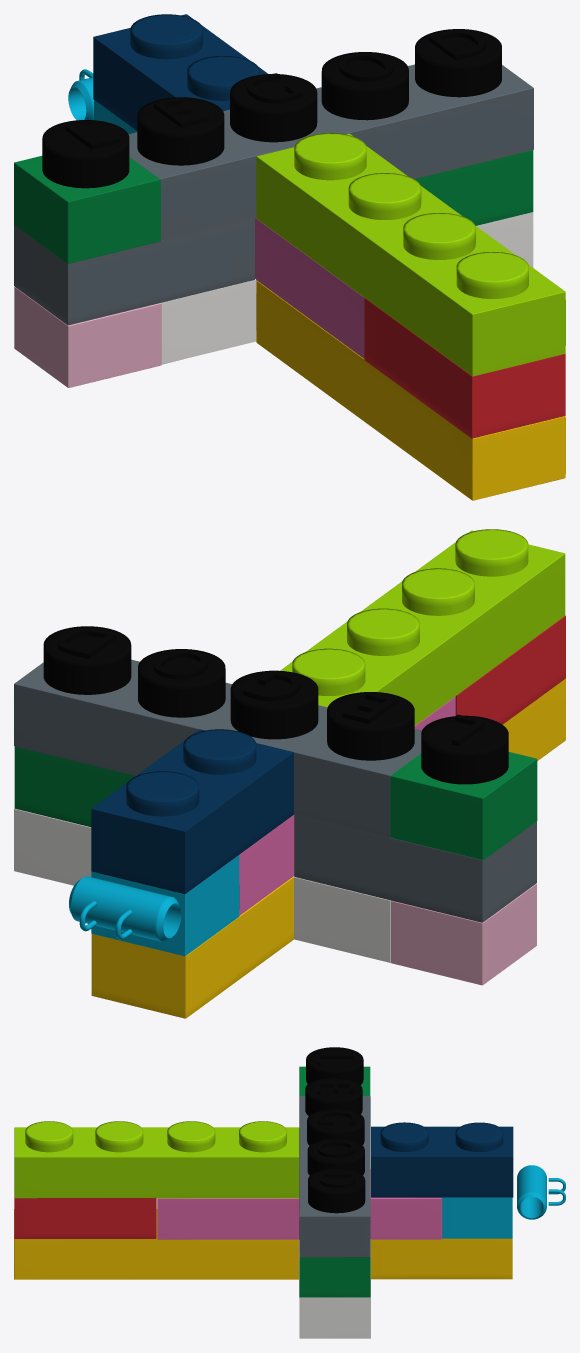
Rendered from bigCross_compressed.gltf.
3 views of the same model, one above another, from view 1: azimuth 30°, elevation 25°; view 2: azimuth 150°, elevation 25°; view 3: azimuth 270°, elevation 25° (orthographic). The views are drawn at different scales.
Parts seen in each view (by area): view 1: 1-2, 1-1, 3-2, 2-3, 2-2, 1-3, 1-4, 3-4, 3-1, 2-1, 2-4, word2 (+5 smaller); view 2: 1-2, 1-3, 1-1, 2-3, 3-3, 1-4, 3-1, 2-5, 3-4, 2-2, 2-4, word3 (+6 smaller); view 3: 1-2, 3-2, 1-3, 2-1, 3-3, 2-2, 1-1, 2-5, 3-1, 2-4, word5, word2 (+4 smaller).
Boxes of the visible parts, box(x1,y1,x2,y2) form: 1-2: box(256, 133, 565, 376); 1-1: box(128, 64, 533, 240); 3-2: box(256, 280, 565, 500); 2-3: box(14, 218, 254, 325); 2-2: box(364, 297, 565, 438); 1-3: box(93, 14, 267, 130); 1-4: box(14, 156, 160, 263); 3-4: box(14, 287, 161, 387); 3-1: box(161, 212, 533, 364); 2-1: box(255, 218, 364, 358); 2-4: box(414, 150, 533, 225); word2: box(137, 97, 224, 165); 1-2: box(280, 529, 565, 725); 1-3: box(91, 729, 293, 894); 1-1: box(14, 659, 421, 837); 2-3: box(294, 814, 536, 922); 3-3: box(91, 876, 293, 1018); 1-4: box(390, 752, 537, 860); 3-1: box(14, 808, 390, 962); 2-5: box(69, 855, 239, 956); 3-4: box(391, 883, 536, 985); 2-2: box(455, 615, 565, 724); 2-4: box(14, 746, 135, 826); word3: box(230, 670, 318, 739); 1-2: box(14, 1121, 299, 1198); 3-2: box(14, 1209, 298, 1279); 1-3: box(371, 1122, 513, 1197); 2-1: box(157, 1169, 442, 1239); 3-3: box(371, 1238, 512, 1279); 2-2: box(14, 1198, 156, 1238); 1-1: box(299, 1096, 370, 1257); 2-5: box(442, 1165, 565, 1238); 3-1: box(299, 1239, 370, 1338); 2-4: box(299, 1256, 370, 1297); word5: box(308, 1168, 365, 1213); word2: box(305, 1077, 362, 1115).
Bounding box in the file's own units: 0.0399 × 0.0183 × 0.062.
